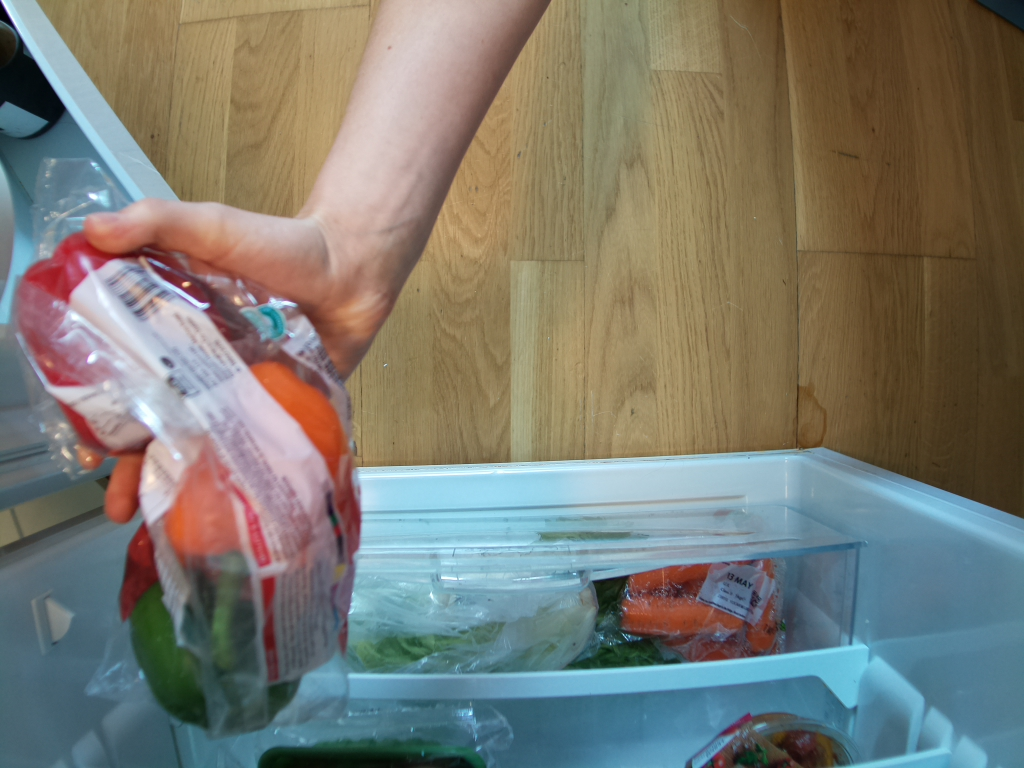pepper: (144, 361, 361, 664), (13, 233, 256, 449), (133, 574, 305, 733)
